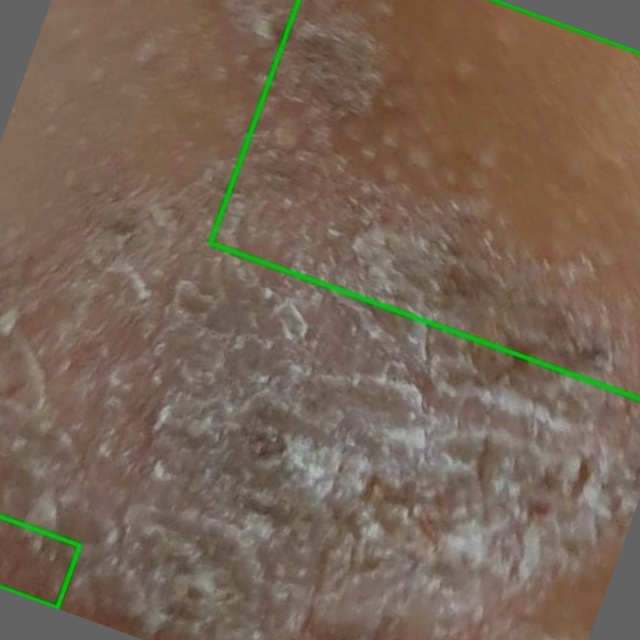Contact Dermatitis: (210, 0, 639, 398)
